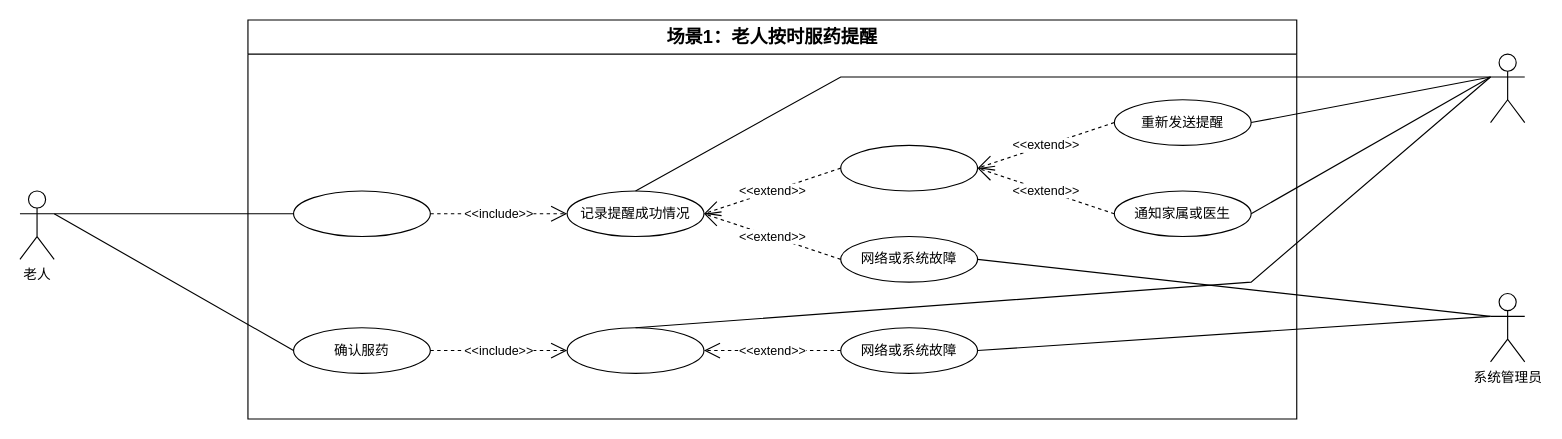
This 1562x439 diagram has some shape labels left out. The centre of each missing label's shape, as x and y in pixels:
"发出服药提醒" goes at pixel 361 213.
"忽略提醒" goes at pixel 909 167.
"机器人" goes at pixel 1507 88.
"记录服药成功情况" goes at pixel 635 350.
